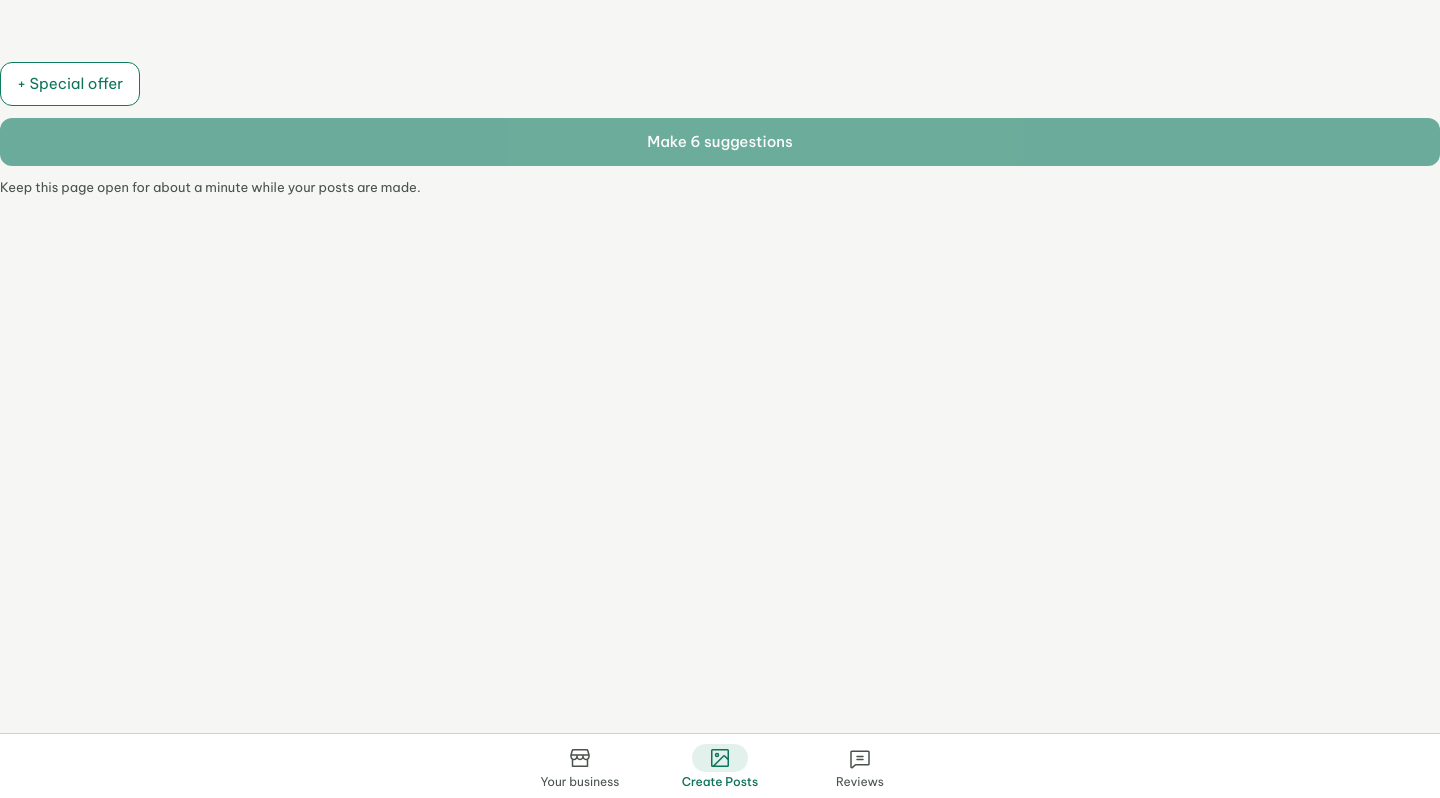
Test: BrandHome › re-read with 2 edits asks, and cancel makes no request
Press the mouse on the tab "Your business" at {"x": 580, "y": 766}, box [510, 734, 650, 797]
(page scrolled)
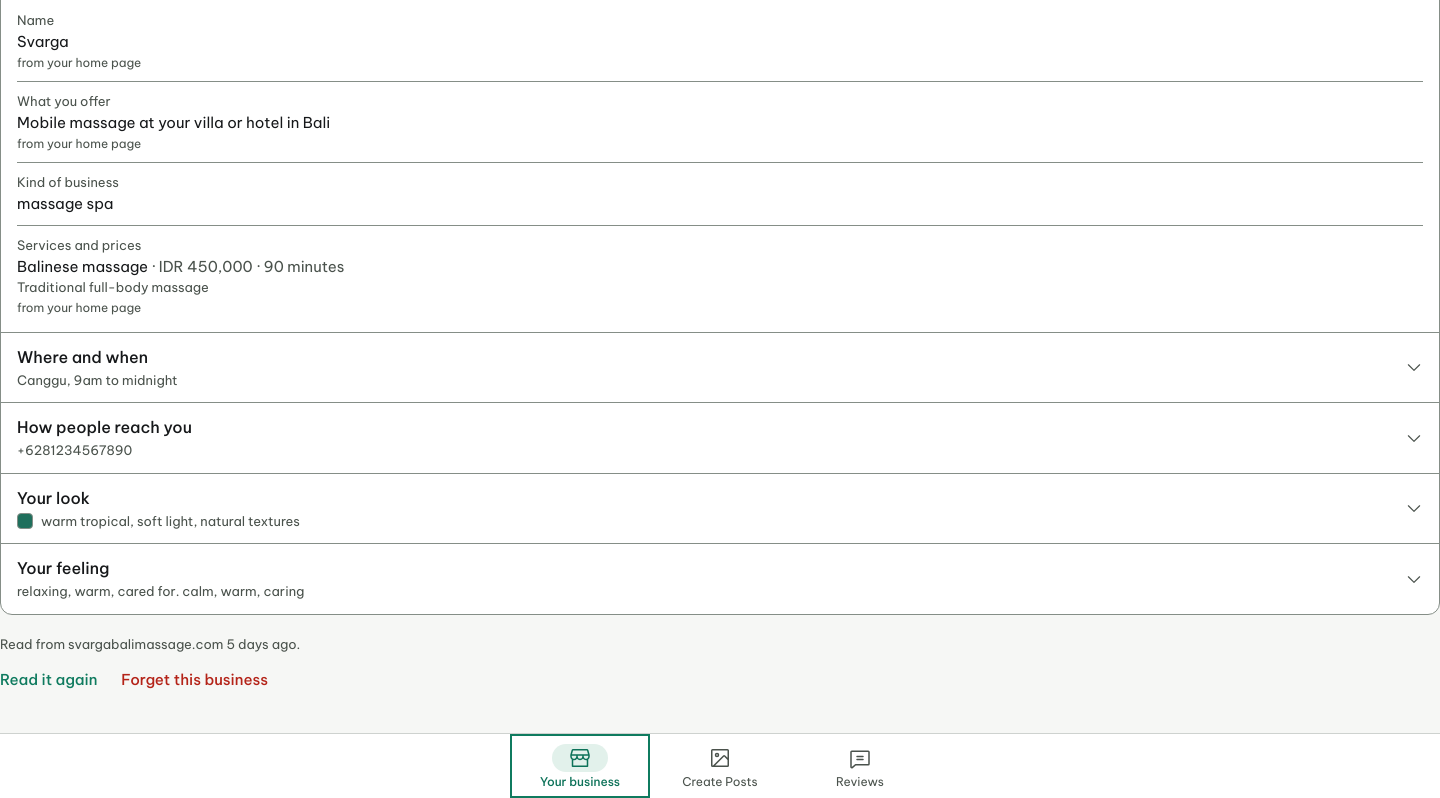
Now the tab "Your business" is selected, box [510, 734, 650, 797]
Click the button "Read it again". click: {"x": 49, "y": 680}
box: [0, 658, 97, 702]
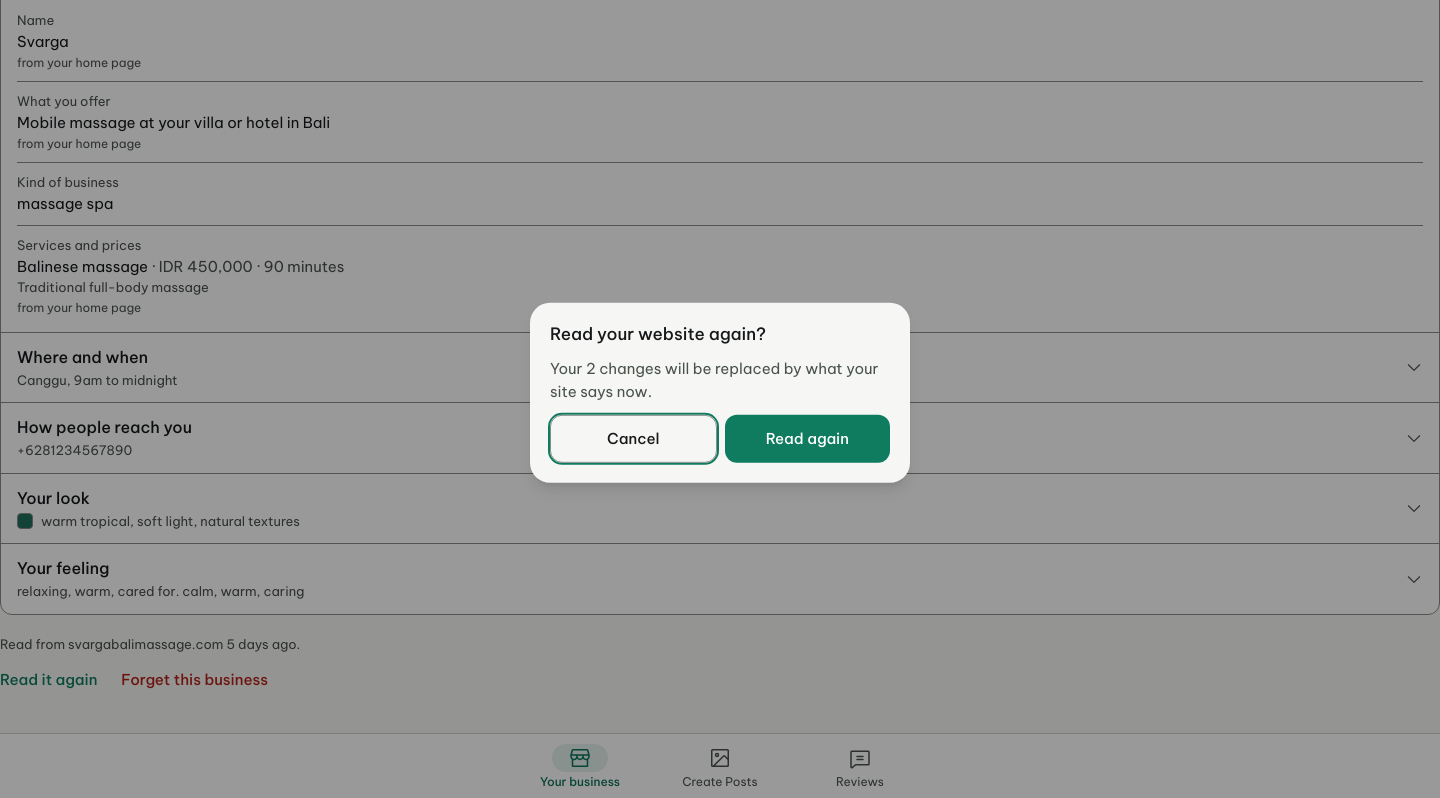
Now the heading "Read your website again?" is shown, box [550, 323, 766, 345]
Now the text "Your 2 changes will be replaced by what your site says now." is shown, box [550, 358, 890, 403]
Click the button "Cancel". click: {"x": 633, "y": 439}
box: [550, 415, 717, 463]
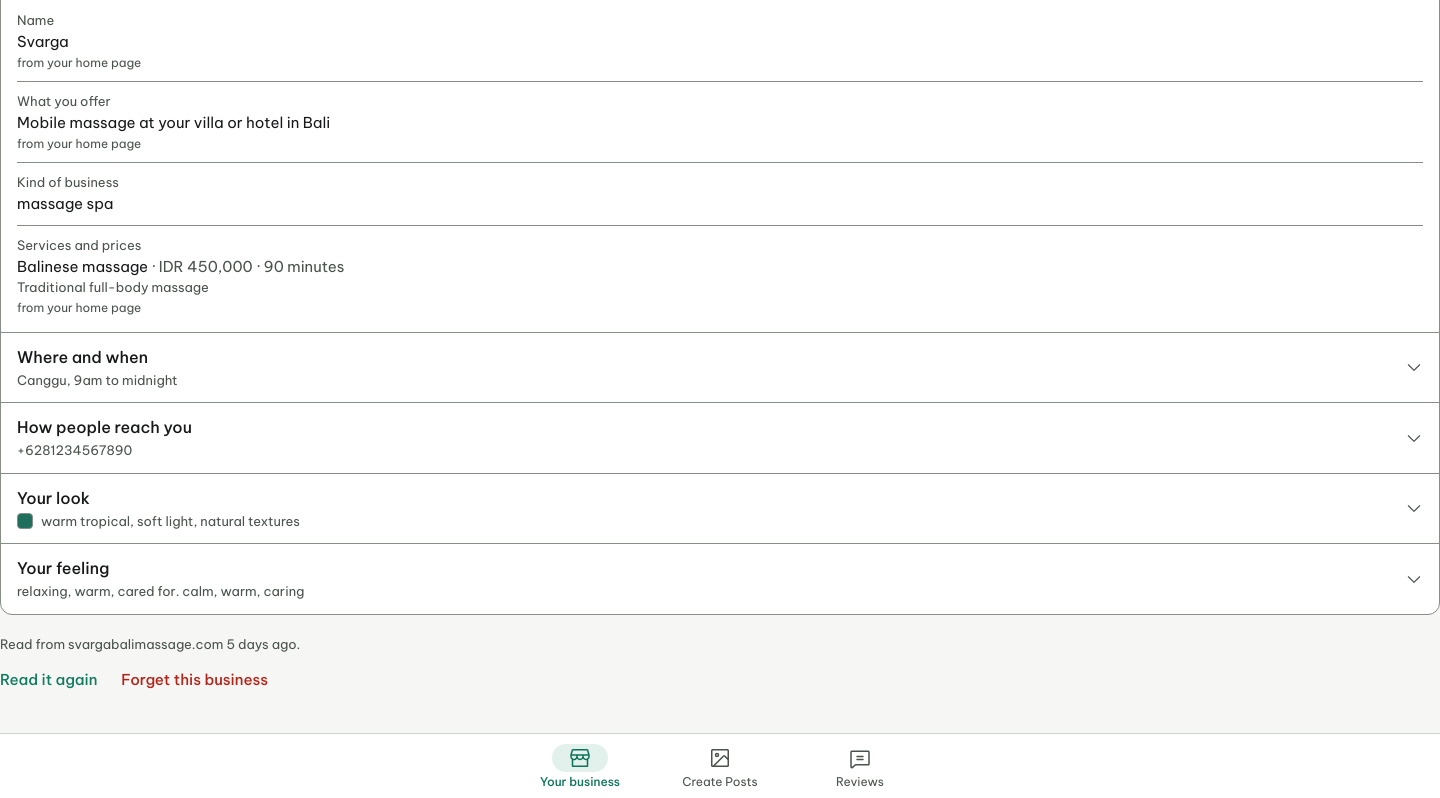
Now the heading "Read your website again?" is gone
